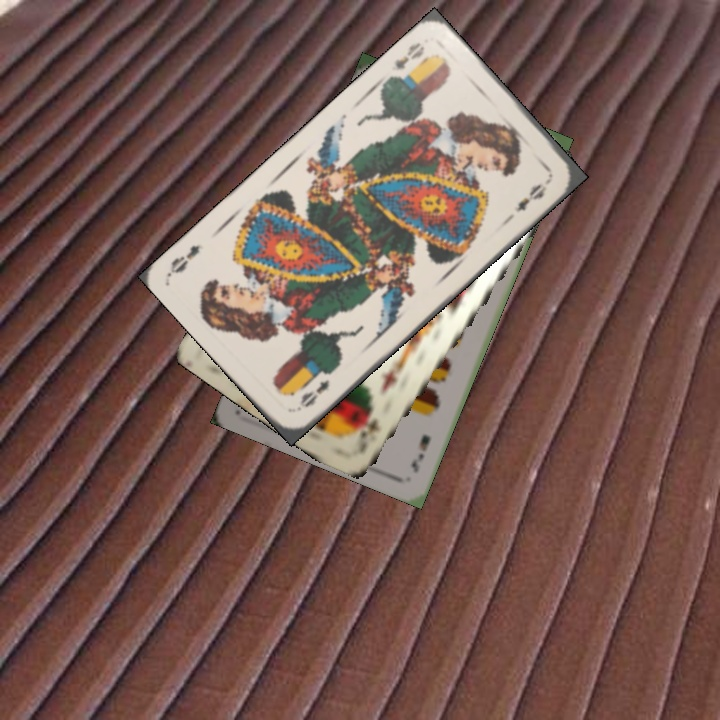E7: (407, 430, 433, 476)
EO: (387, 37, 428, 74), (295, 375, 333, 410)
SK: (354, 401, 384, 444)
